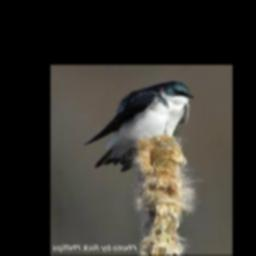Swallow: (84, 80, 197, 171)
